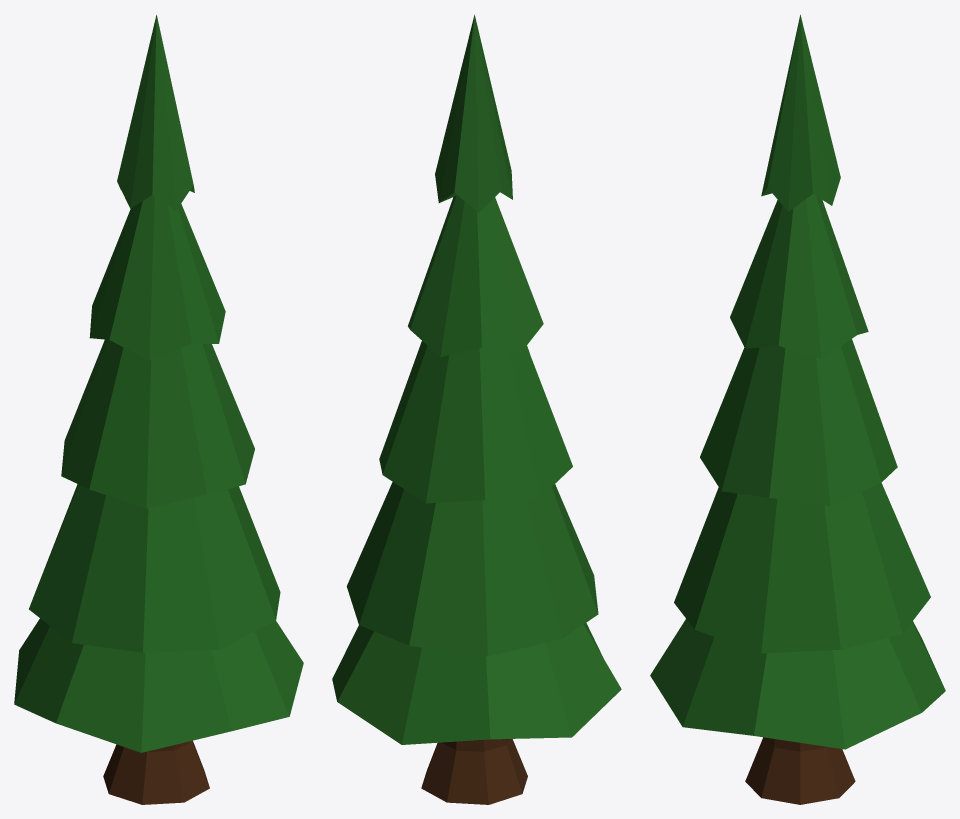
File: tree1noncolor.fbx
The picture shows the model from 3 angles, left to right: view 1: azimuth 30°, elevation 25°; view 2: azimuth 150°, elevation 25°; view 3: azimuth 270°, elevation 25°; orthographic projection.
Visible parts, largest first — view 1: Cylinder; view 2: Cylinder; view 3: Cylinder.
Boxes of the visible parts, x1=… form: Cylinder: x1=14, y1=15, x2=303, y2=804; Cylinder: x1=332, y1=14, x2=621, y2=804; Cylinder: x1=650, y1=14, x2=945, y2=804.
Size of the model in its own units: 99.01 by 293 by 102.
